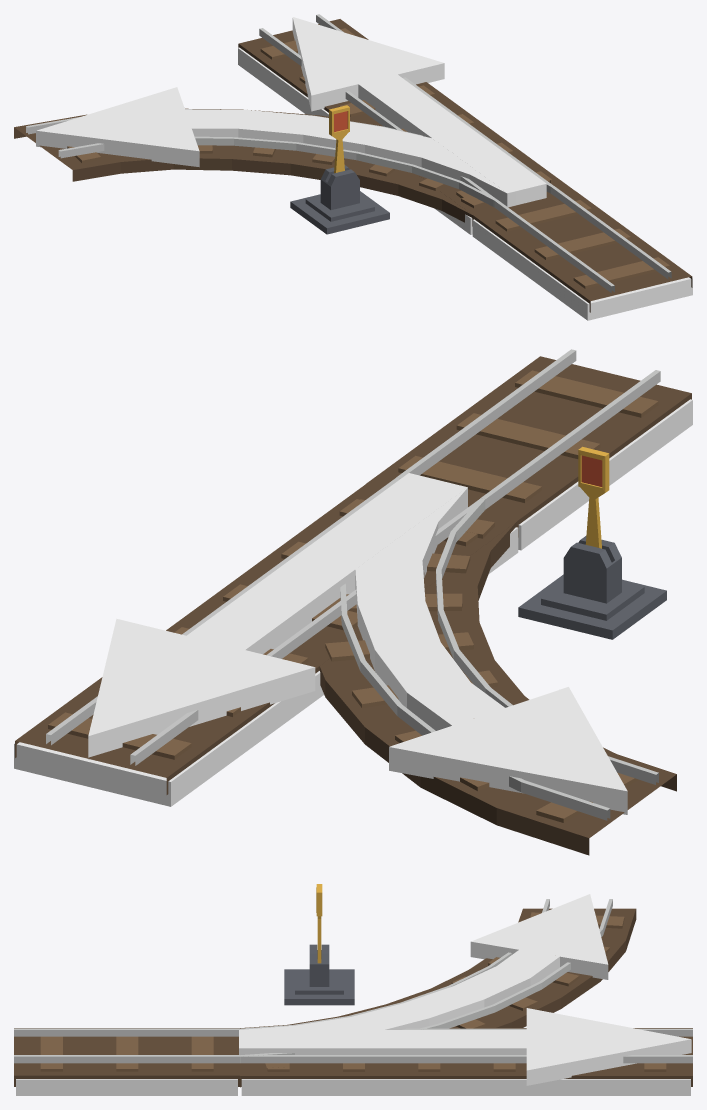
Rendered from Switch Corner Baked.fbx.
3 renders of one model, top to bottom at view 1: azimuth 30°, elevation 25°; view 2: azimuth 150°, elevation 25°; view 3: azimuth 270°, elevation 25°, orthographic. The views are drawn at different scales.
Parts seen in each view (by area): view 1: SwitchArrow-1xCurve, SwitchArrow-Straight, 1 x Curve, Straight 1x Legacy, Straight 2x Legacy, Gravel (×2), Switchbox; view 2: SwitchArrow-Straight, SwitchArrow-1xCurve, 1 x Curve, Straight 1x Legacy, Straight 2x Legacy, Gravel (×2), Switchbox; view 3: SwitchArrow-Straight, SwitchArrow-1xCurve, Straight 1x Legacy, Gravel (×2), Straight 2x Legacy, 1 x Curve, Switchbox.
Part boxes in pixels (x1,y1,x2,y2): SwitchArrow-1xCurve: [36, 87, 515, 207]; SwitchArrow-Straight: [292, 17, 546, 205]; 1 x Curve: [14, 108, 553, 226]; Straight 1x Legacy: [473, 186, 692, 312]; Straight 2x Legacy: [238, 14, 574, 219]; Gravel (×2): [238, 47, 692, 320]; Switchbox: [290, 105, 389, 234]; SwitchArrow-Straight: [88, 473, 467, 759]; SwitchArrow-1xCurve: [355, 487, 627, 814]; 1 x Curve: [319, 477, 676, 855]; Straight 1x Legacy: [366, 349, 691, 537]; Straight 2x Legacy: [15, 479, 517, 794]; Gravel (×2): [14, 399, 692, 806]; Switchbox: [518, 446, 666, 639]; SwitchArrow-Straight: [239, 1008, 691, 1085]; SwitchArrow-1xCurve: [240, 894, 608, 1029]; Straight 1x Legacy: [14, 1028, 239, 1086]; Gravel (×2): [16, 1079, 690, 1095]; Straight 2x Legacy: [240, 1028, 692, 1086]; 1 x Curve: [240, 899, 636, 1087]; Switchbox: [284, 884, 354, 1005].
Size of the model in its own units: 1.85 by 0.5618 by 3.
